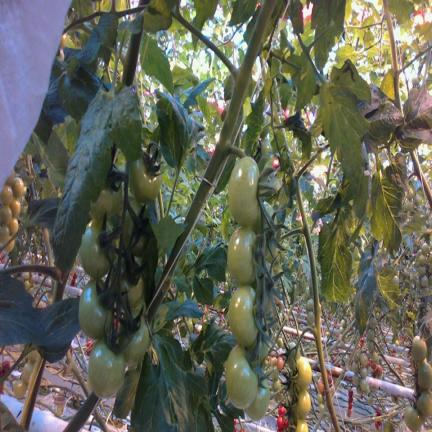6kp_peduncle: (209, 115, 247, 176), (297, 315, 322, 348)
6kp_petiole: (204, 38, 257, 109), (284, 211, 312, 248), (290, 158, 314, 197), (391, 53, 414, 90)
MainStem: (145, 0, 277, 326), (290, 164, 341, 432), (383, 1, 402, 112), (20, 353, 46, 432), (410, 151, 432, 209), (122, 29, 143, 87)
tomato: (116, 295, 149, 364), (229, 157, 259, 227), (79, 218, 114, 278), (89, 339, 125, 396), (225, 345, 257, 408), (129, 142, 161, 203), (79, 280, 110, 338), (229, 286, 257, 346), (228, 227, 256, 284), (124, 197, 151, 256), (121, 254, 144, 310), (262, 202, 281, 259), (245, 379, 270, 419), (91, 186, 121, 219), (264, 260, 280, 314), (247, 334, 269, 366), (405, 406, 424, 431), (296, 357, 311, 388), (411, 336, 427, 363), (296, 389, 310, 418), (418, 361, 432, 390), (417, 390, 432, 417), (287, 342, 300, 370), (12, 177, 25, 198), (22, 362, 35, 383), (13, 379, 27, 398), (0, 185, 13, 204), (0, 206, 12, 225), (10, 198, 21, 217), (8, 217, 18, 235), (0, 226, 9, 243), (296, 419, 308, 431), (6, 170, 15, 185), (27, 350, 38, 362), (5, 240, 14, 252), (277, 415, 284, 430), (271, 368, 279, 381), (360, 353, 368, 366), (421, 242, 429, 255), (405, 201, 414, 212), (277, 356, 284, 370), (372, 350, 379, 364), (306, 298, 314, 310), (318, 378, 324, 394), (369, 318, 377, 330), (406, 188, 414, 200), (360, 378, 367, 391), (272, 380, 281, 390), (351, 362, 359, 373), (418, 254, 426, 265), (420, 275, 428, 286), (307, 311, 314, 323), (367, 329, 374, 341), (414, 194, 422, 204), (360, 367, 367, 378), (352, 374, 359, 385), (367, 341, 374, 352), (376, 365, 382, 377), (279, 406, 286, 416), (418, 266, 425, 276), (392, 275, 399, 285), (330, 183, 337, 193), (354, 351, 360, 362), (422, 287, 429, 296), (305, 286, 310, 298), (356, 384, 362, 394), (367, 395, 373, 405), (270, 357, 276, 366), (428, 274, 432, 286), (317, 394, 322, 403), (319, 403, 324, 412), (365, 322, 369, 333), (350, 242, 354, 250), (336, 178, 339, 186)
